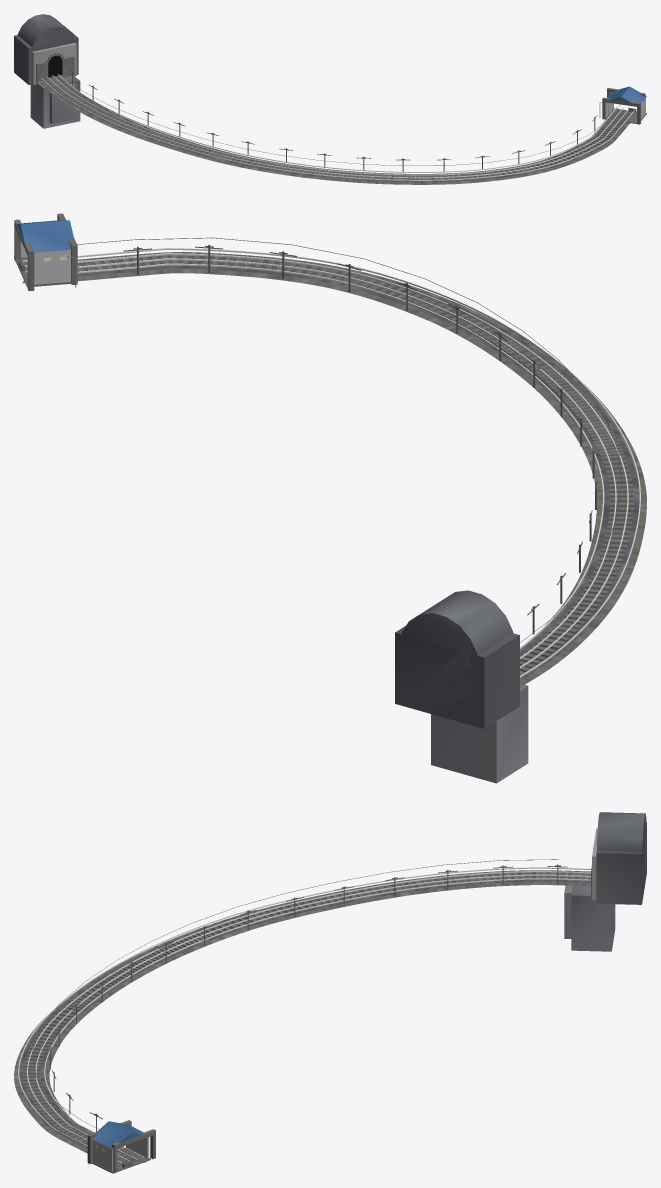
Rendered from Rail_P3.fbx.
The picture shows the model from 3 angles, top to bottom: view 1: azimuth 30°, elevation 25°; view 2: azimuth 150°, elevation 25°; view 3: azimuth 270°, elevation 25°; orthographic projection. The views are drawn at different scales.
Parts seen in each view (by area): view 1: Rail.Portal, Rail.Bed, Rail.Ballast, Rail.Sleepers, Rail.Shed, Rail.Rail, Rail.Rail.001, Rail.Rail.002, Rail.Rail.003, Rail.Masts, Rail.Catenary; view 2: Rail.Portal, Rail.Sleepers, Rail.Bed, Rail.Ballast, Rail.Shed, Rail.Rail, Rail.Rail.001, Rail.Rail.002, Rail.Rail.003, Rail.Masts, Rail.Catenary; view 3: Rail.Portal, Rail.Bed, Rail.Sleepers, Rail.Ballast, Rail.Shed, Rail.Rail.001, Rail.Rail, Rail.Rail.002, Rail.Rail.003, Rail.Masts, Rail.Catenary.
Part boxes in pixels (<box>): Rail.Portal: <box>14,14,80,128</box>; Rail.Bed: <box>42,76,631,182</box>; Rail.Ballast: <box>38,77,629,184</box>; Rail.Sleepers: <box>44,76,629,180</box>; Rail.Shed: <box>602,86,646,124</box>; Rail.Rail: <box>41,78,635,180</box>; Rail.Rail.001: <box>47,76,629,178</box>; Rail.Rail.002: <box>52,75,623,175</box>; Rail.Rail.003: <box>57,74,617,172</box>; Rail.Masts: <box>69,70,608,171</box>; Rail.Catenary: <box>61,76,620,165</box>; Rail.Portal: <box>395,590,528,783</box>; Rail.Sleepers: <box>77,255,633,675</box>; Rail.Bed: <box>26,253,639,680</box>; Rail.Ballast: <box>22,252,646,687</box>; Rail.Shed: <box>14,213,77,291</box>; Rail.Rail: <box>23,248,640,677</box>; Rail.Rail.001: <box>25,253,628,668</box>; Rail.Rail.002: <box>25,258,616,659</box>; Rail.Rail.003: <box>27,263,604,649</box>; Rail.Masts: <box>123,244,596,634</box>; Rail.Catenary: <box>77,237,621,642</box>; Rail.Portal: <box>564,812,646,951</box>; Rail.Bed: <box>19,872,590,1163</box>; Rail.Sleepers: <box>23,872,589,1162</box>; Rail.Ballast: <box>14,870,590,1162</box>; Rail.Shed: <box>87,1120,155,1173</box>; Rail.Rail.001: <box>27,871,590,1161</box>; Rail.Rail: <box>18,867,591,1163</box>; Rail.Rail.002: <box>35,874,590,1160</box>; Rail.Rail.003: <box>44,878,590,1157</box>; Rail.Masts: <box>49,864,567,1151</box>; Rail.Catenary: <box>32,859,558,1129</box>.
Bounding box in the file's own units: 27462 × 5389 × 24955.
